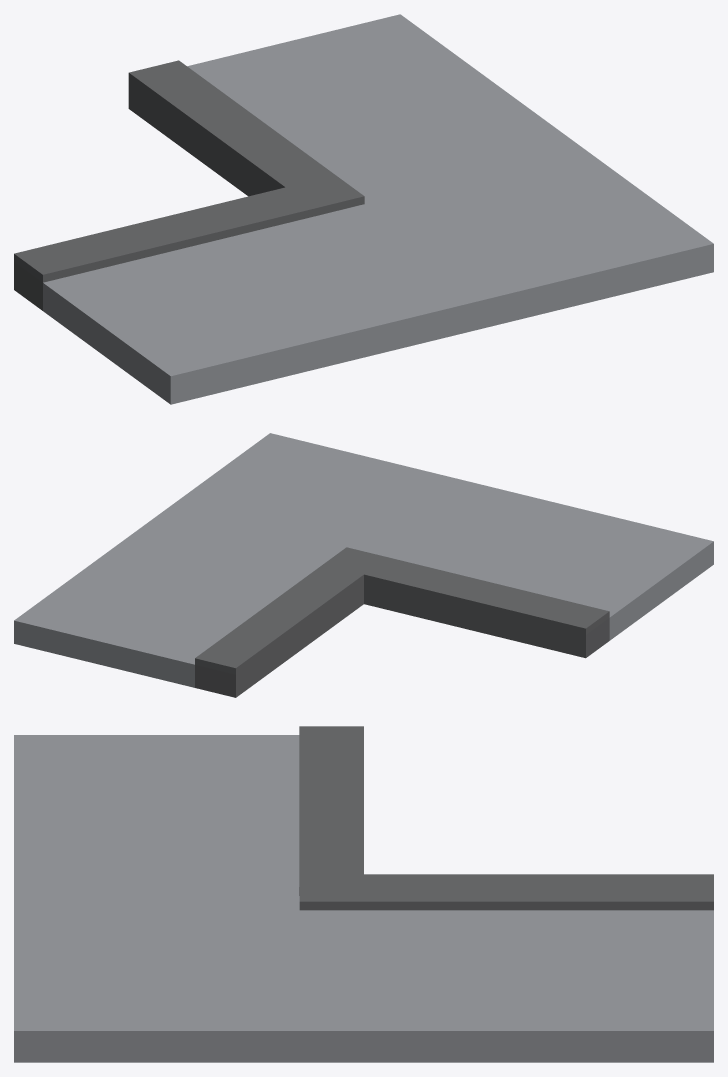
File: Pavement_2.glb
3 renders of one model, top to bottom at view 1: azimuth 30°, elevation 25°; view 2: azimuth 150°, elevation 25°; view 3: azimuth 270°, elevation 25°, orthographic. The views are drawn at different scales.
Parts seen in each view (by area): view 1: SM_sidewalk_03__11_; view 2: SM_sidewalk_03__11_; view 3: SM_sidewalk_03__11_.
Boxes of the visible parts, x1,y1,x2,y2 form: SM_sidewalk_03__11_: (14, 14, 713, 404); SM_sidewalk_03__11_: (14, 433, 713, 697); SM_sidewalk_03__11_: (14, 726, 713, 1062).
Size of the model in its own units: 2 by 0.1278 by 2.
Materials: 1 (1 with a texture image).
